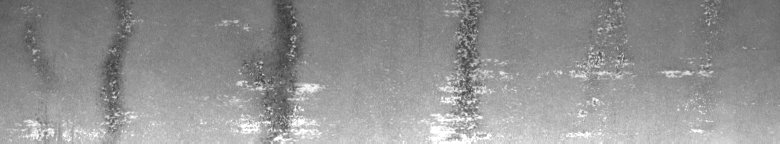hc: (221, 5, 319, 136)
